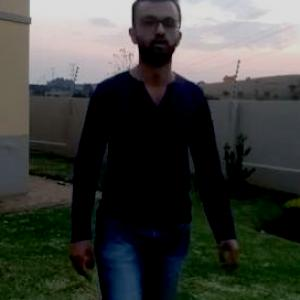follow: (82, 0, 222, 299)
